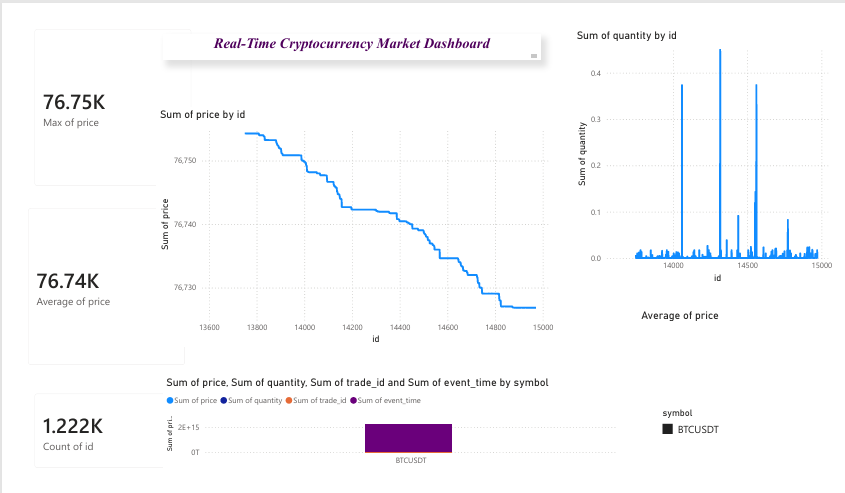

Layout of this report page (visuals, bound fields, positions):
{"tool":"powerbi","page":{"name":"Page 1","canvas":[1280,720],"ordinal":0},"visuals":[{"type":"cardVisual","fields":{"Data":["Max(public trades.price)"]},"box":[9.6,0,279.9,279.9],"z":0},{"type":"cardVisual","fields":{"Data":["Avg(public trades.price)"]},"box":[0,279.9,279.9,279.9],"z":1000},{"type":"cardVisual","fields":{"Data":["CountNonNull(public trades.id)"]},"box":[10,570,280,150],"z":2000},{"type":"lineChart","fields":{"Category":["public trades.id"],"Y":["Sum(public trades.price)"]},"box":[218,140.2,626.3,374.9],"z":3000},{"type":"areaChart","fields":{"Category":["public trades.id"],"Y":["Sum(public trades.quantity)"]},"box":[870.4,16.4,409.9,403],"z":4000},{"type":"kpi","fields":{"Indicator":["Avg(public trades.price)"]},"box":[970.6,454.1,290.2,150],"z":5000},{"type":"lineStackedColumnComboChart","fields":{"Category":["public trades.symbol"],"Y":["Sum(public trades.price)","Sum(public trades.quantity)","Sum(public trades.trade_id)","Sum(public trades.event_time)"]},"box":[227.5,559.3,714.2,149.4],"z":6000},{"type":"slicer","fields":{"Values":["public trades.symbol"]},"box":[995.6,604,265.2,116.6],"z":7000},{"type":"textbox","title":"Real-Time Cryptocurrency Market Dashboard","box":[227.5,26,590.8,39.8],"z":8000}]}

Visuals, with their boxes on the page's 1280x720 design canvas (x1, y1, x2, y2). These are canvas units, not pixel positions in the 845x493 screenshot, which may show the page scaled, cropped or inside an application window:
cardVisual - Max(public trades.price): (left=10, top=0, right=290, bottom=280)
cardVisual - Avg(public trades.price): (left=0, top=280, right=280, bottom=560)
cardVisual - CountNonNull(public trades.id): (left=10, top=570, right=290, bottom=720)
lineChart - public trades.id x Sum(public trades.price): (left=218, top=140, right=844, bottom=515)
areaChart - public trades.id x Sum(public trades.quantity): (left=870, top=16, right=1280, bottom=419)
kpi - Avg(public trades.price): (left=971, top=454, right=1261, bottom=604)
lineStackedColumnComboChart - public trades.symbol x Sum(public trades.price): (left=228, top=559, right=942, bottom=709)
slicer - public trades.symbol: (left=996, top=604, right=1261, bottom=721)
"Real-Time Cryptocurrency Market Dashboard" textbox: (left=228, top=26, right=818, bottom=66)
